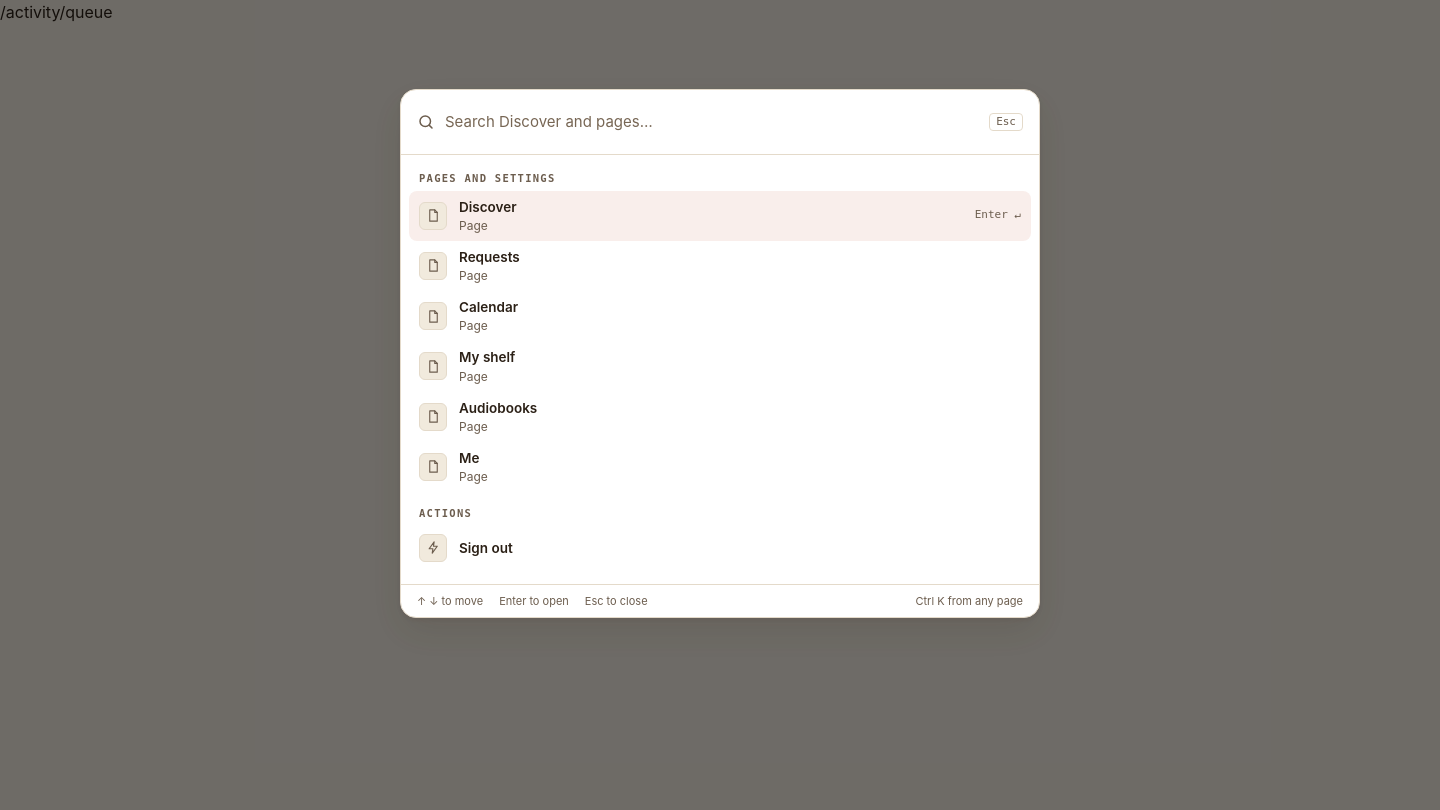
Scenario: CommandPalette › never asks a requester's palette for library titles
The image size is (1440, 810).
Step 1. Type "dune" into the dropdown → [712, 122], box [445, 102, 979, 142]
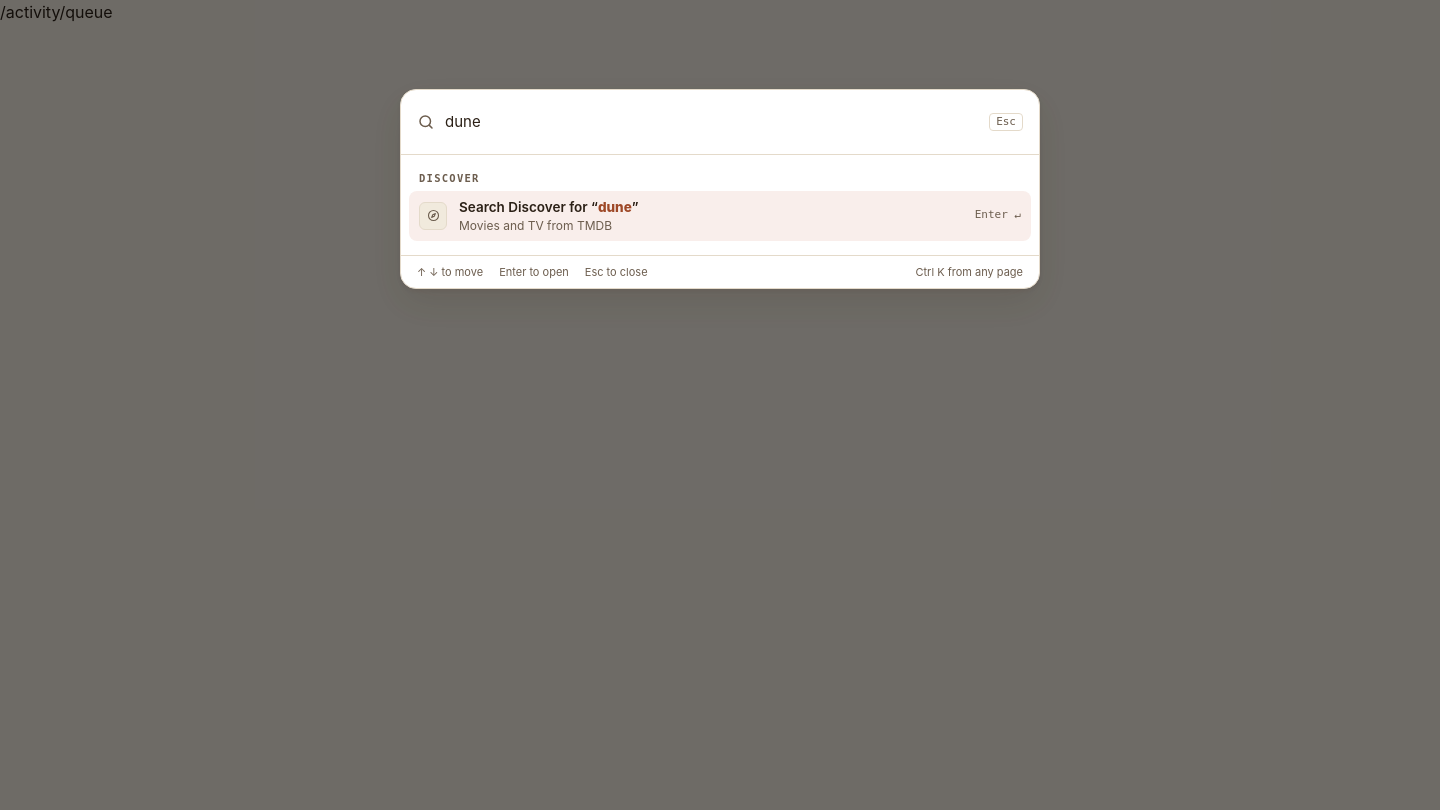
Now the option "Search Discover for “dune” Movies and TV from TMDB Enter ↵" is shown, box [409, 190, 1031, 241]
